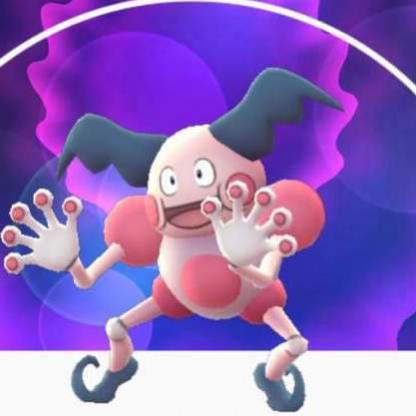Mr. Mime: (1, 1, 362, 412)
